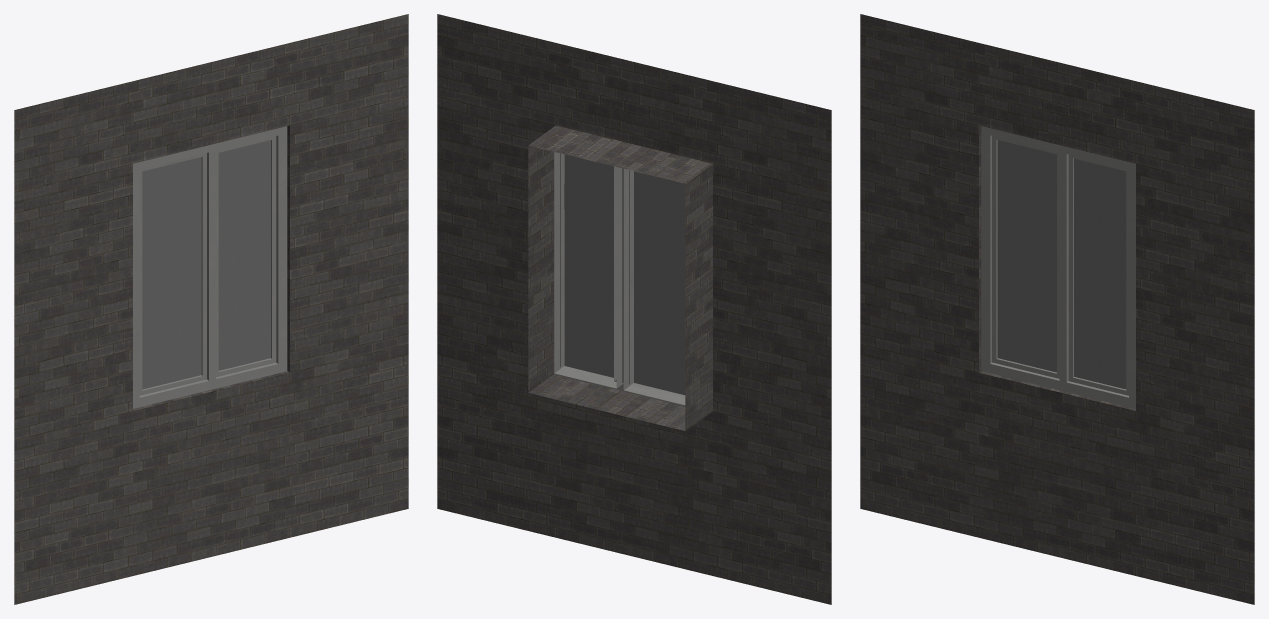
File: Sm_Window03b.fbx
The picture shows the model from 3 angles, left to right: view 1: azimuth 30°, elevation 25°; view 2: azimuth 150°, elevation 25°; view 3: azimuth 330°, elevation 25°; orthographic projection.
Parts seen in each view (by area): view 1: Sm_Window03b; view 2: Sm_Window03b; view 3: Sm_Window03b.
Boxes of the visible parts, bbox=[...] form: Sm_Window03b: bbox=[14, 14, 408, 604]; Sm_Window03b: bbox=[437, 14, 831, 604]; Sm_Window03b: bbox=[860, 14, 1254, 604].
Size of what is drawn, in the model's own units: 250 by 30.37 by 300.
Materials: 3 (3 with a texture image).
